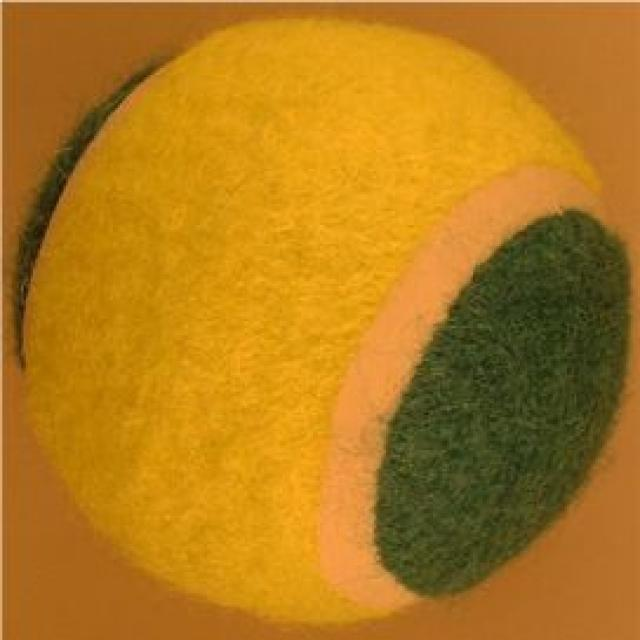Tennis Ball: (14, 14, 633, 626)
